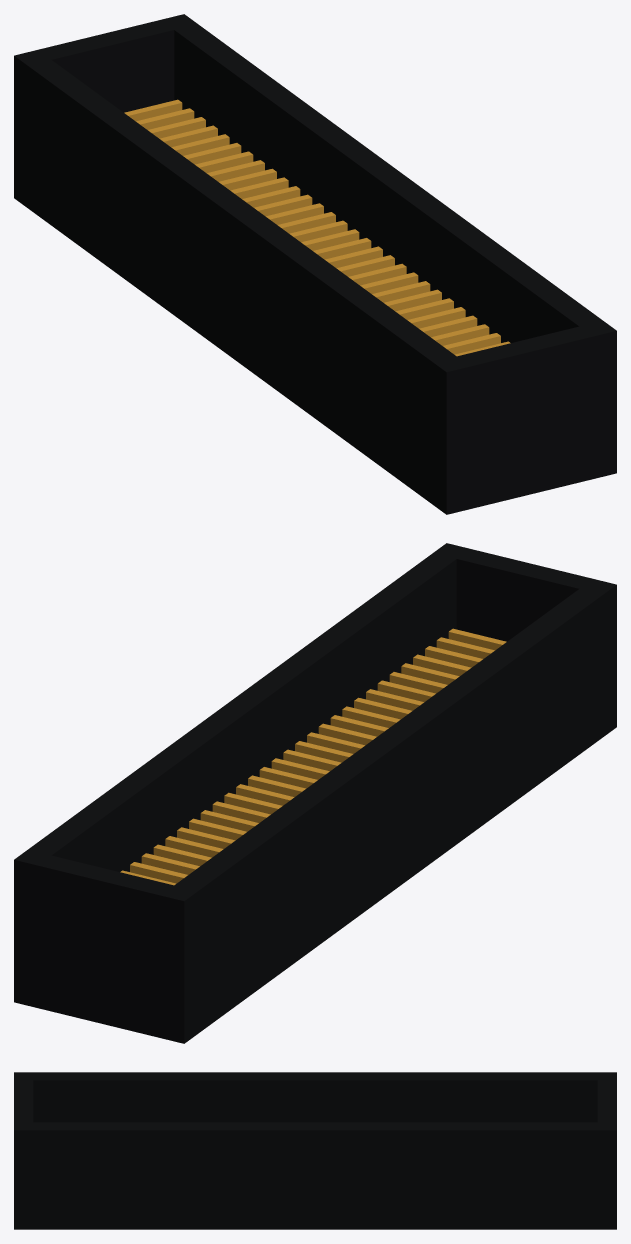
3 views of the same model, one above another, from view 1: azimuth 30°, elevation 25°; view 2: azimuth 150°, elevation 25°; view 3: azimuth 270°, elevation 25° (orthographic). The views are drawn at different scales.
Visible parts, largest first — view 1: M2_1_Black, M2_1_Gold; view 2: M2_1_Black, M2_1_Gold; view 3: M2_1_Black.
Boxes of the visible parts, box(x1,y1,x2,y2) form: M2_1_Black: box(14, 14, 616, 514); M2_1_Gold: box(124, 99, 510, 356); M2_1_Black: box(14, 543, 616, 1043); M2_1_Gold: box(120, 628, 506, 885); M2_1_Black: box(14, 1072, 616, 1229).
Size of the model in its own units: 0.005 by 0.004 by 0.022.
